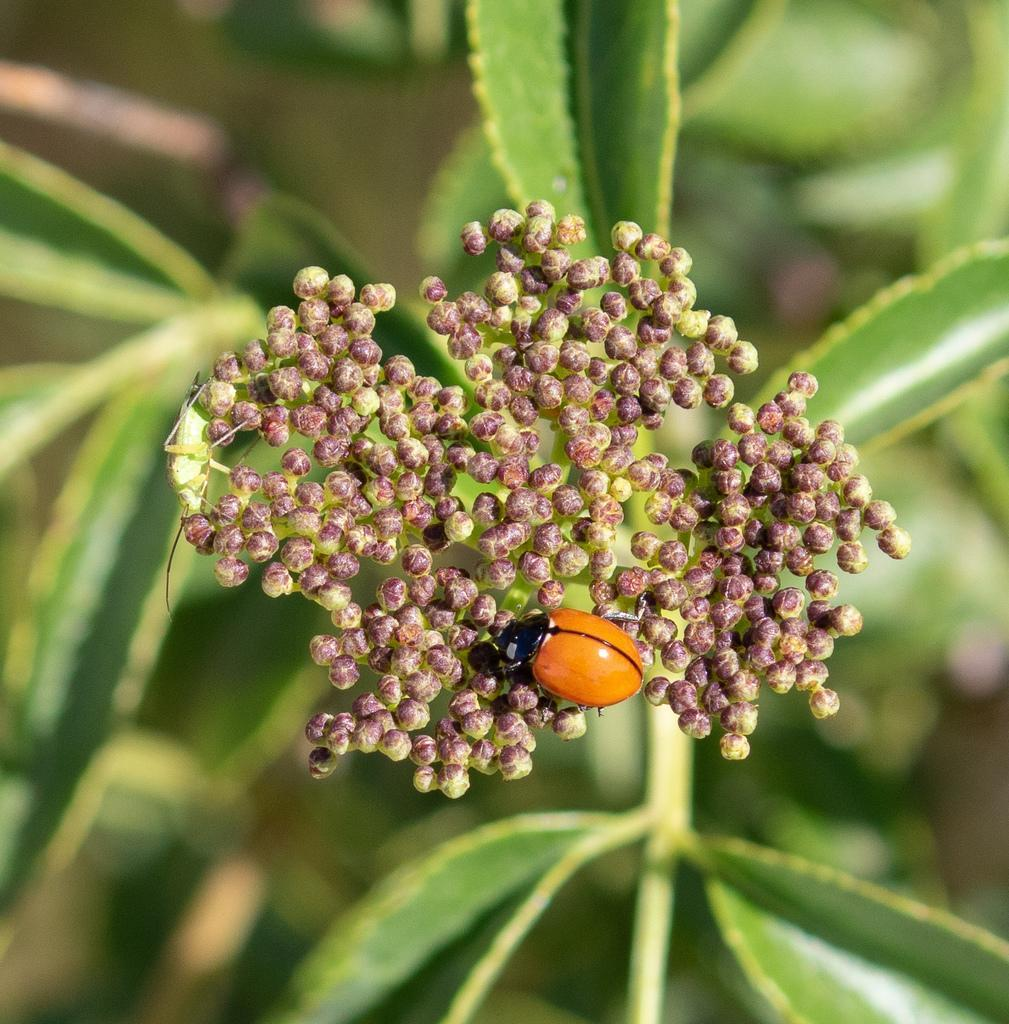ladybug: (490, 605, 649, 720)
